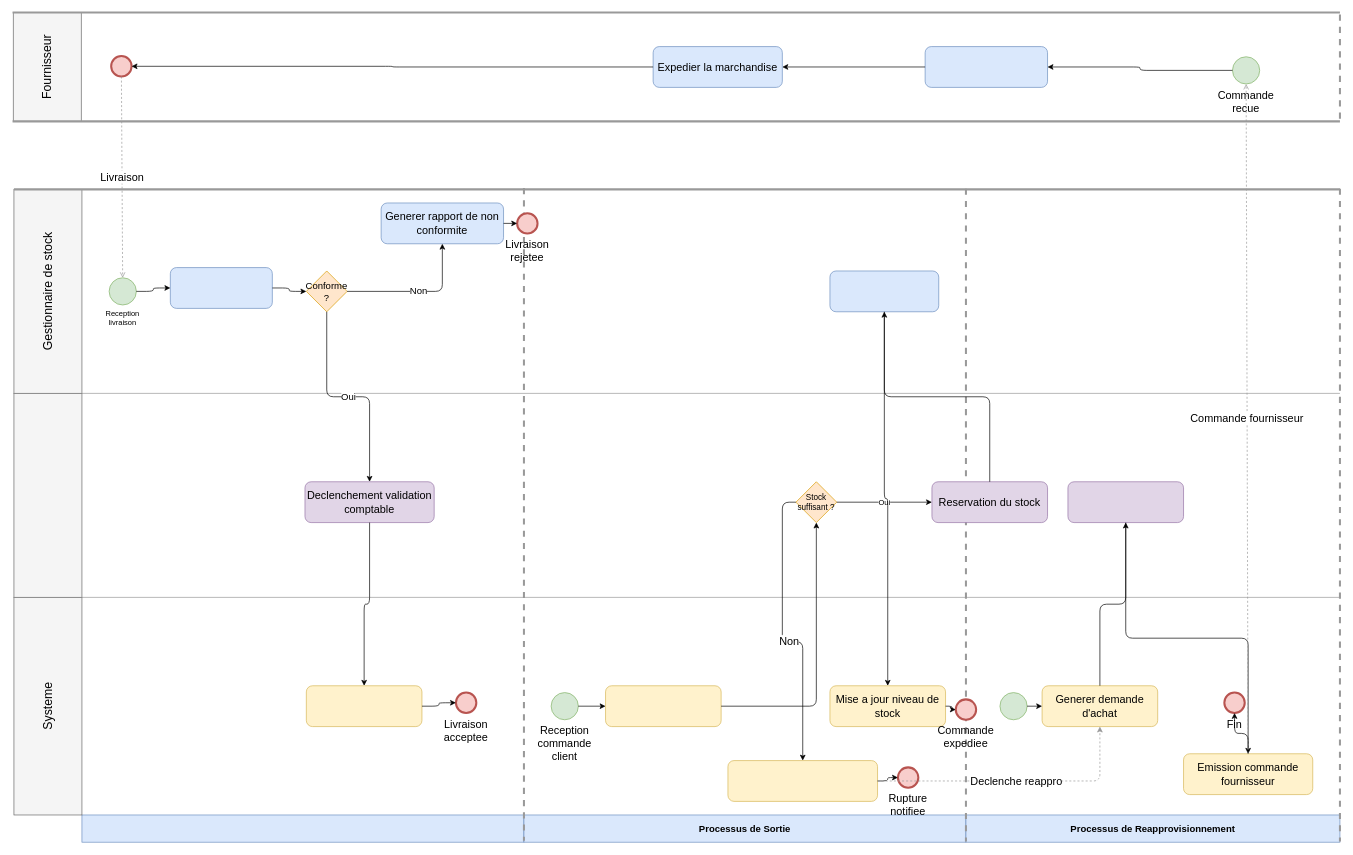
The diagram is 1353 pixels wide and 855 high, and some of its shapes have lost their labels. Here are the shapes that lost their labels. From the top down, the box of each, then its label:
(110, 55, 132, 77): Livraison expediee
(924, 46, 1048, 87): Preparer expedition
(170, 267, 272, 308): Verifier conformite
(829, 270, 939, 312): Preparation du colis
(13, 393, 82, 597): Responsable Achats
(1067, 481, 1184, 523): Validation de la commande
(306, 685, 422, 727): Mise a jour stock
(605, 685, 721, 727): Verification disponibilite
(999, 692, 1027, 720): Seuil Qmin atteint
(727, 760, 878, 801): Reapprovisionnement / notification rupture
(81, 814, 524, 842): Processus d'Entree
